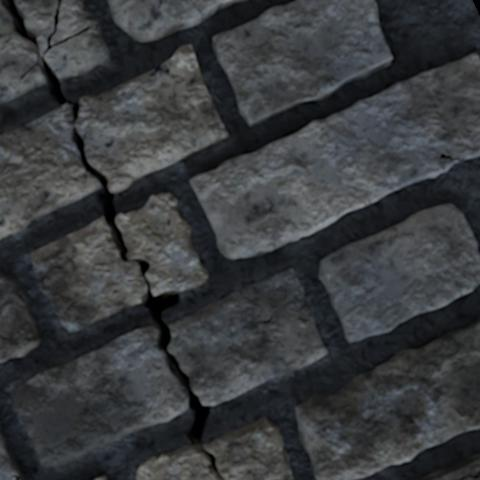brick: (190, 54, 479, 258), (296, 320, 479, 479), (212, 0, 392, 125), (319, 204, 479, 341), (108, 0, 245, 41), (0, 272, 41, 361), (419, 454, 479, 479), (0, 426, 24, 479), (94, 475, 105, 479)
broken_brick: (10, 325, 188, 466), (76, 43, 228, 193), (169, 267, 327, 406), (0, 105, 99, 240), (30, 216, 142, 333), (135, 416, 295, 479), (117, 193, 209, 294), (45, 0, 109, 82), (0, 4, 47, 104), (15, 0, 56, 53)
crack: (0, 0, 222, 477), (455, 466, 479, 479), (438, 153, 465, 161), (470, 0, 479, 22), (11, 386, 21, 396), (10, 474, 21, 479), (157, 0, 162, 8)
